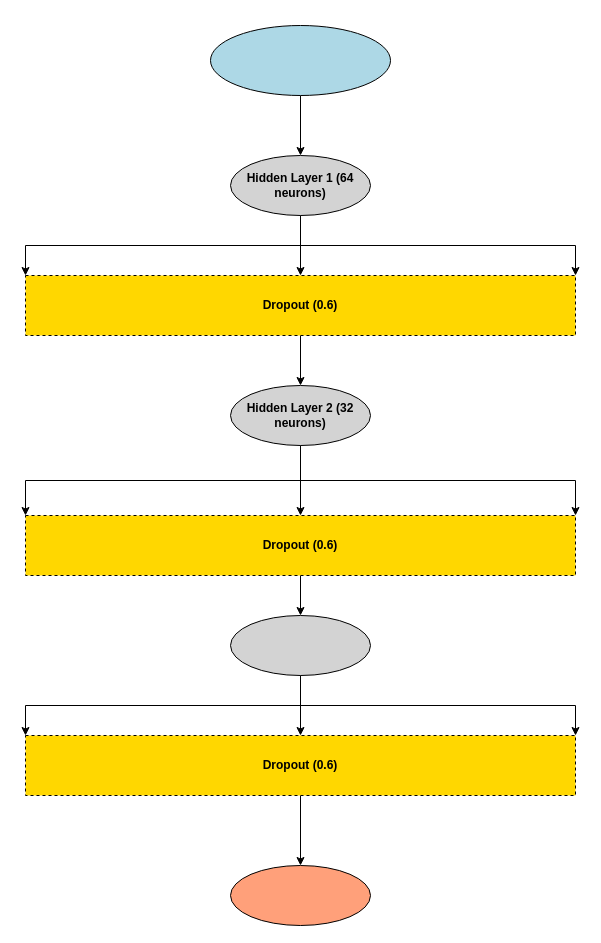
Some shapes in this 601 by 943 pixel diagram are drawn without their labels. The shapes that lost their labels are listed below. From the top down, each one's box as (x1, y1, x2, y2) in pixels, then its label:
(210, 24, 390, 96): Input Layer (128 neurons)
(230, 614, 370, 676): Hidden Layer 3 (16 neurons)
(230, 864, 370, 926): Output Layer (1 neuron)
